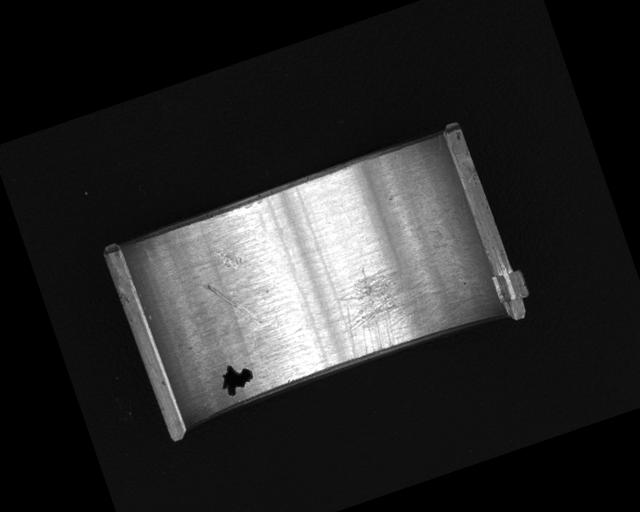blot: (214, 357, 258, 399)
bruise: (213, 242, 244, 273)
nick: (204, 271, 262, 337)
scratch: (325, 239, 471, 361)
